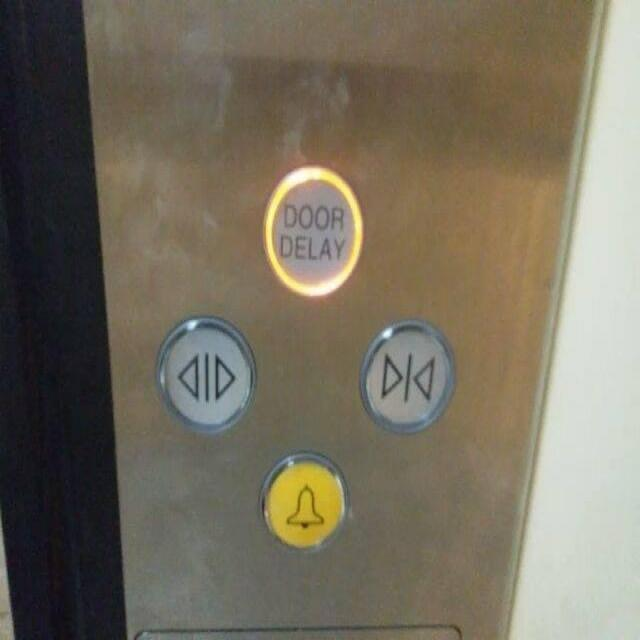alarm: (257, 448, 351, 551)
close: (358, 320, 453, 437)
open: (153, 312, 258, 432)
text_delay: (260, 162, 364, 298)
